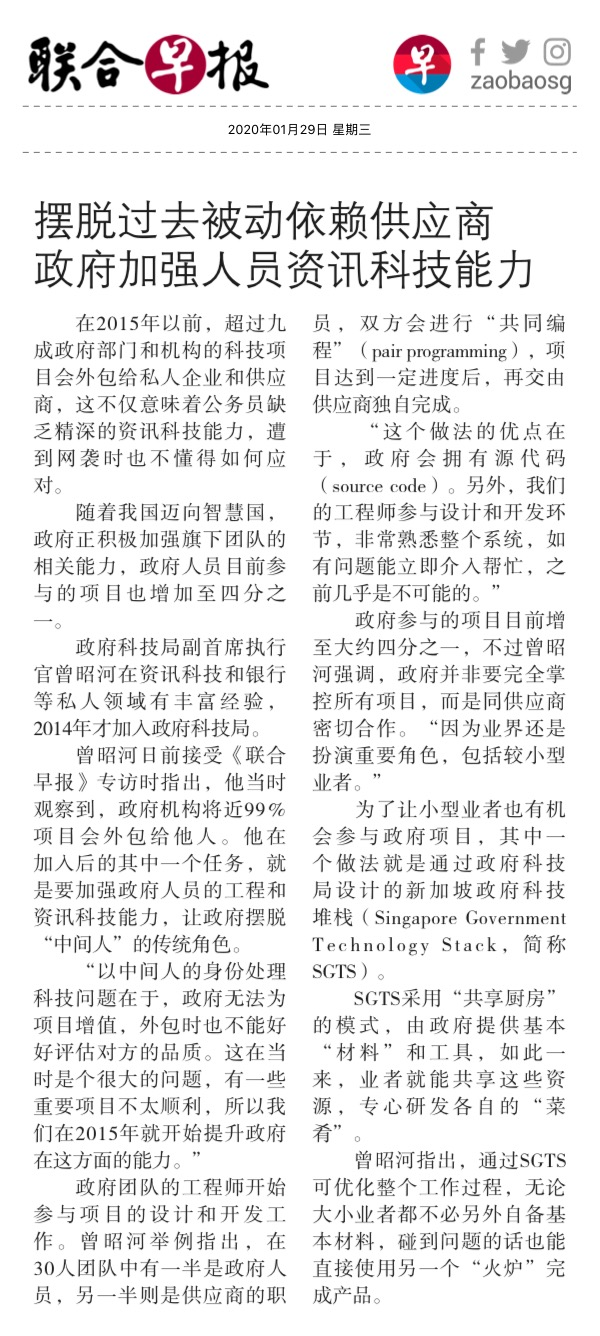heading_test: (24, 187, 540, 295)
